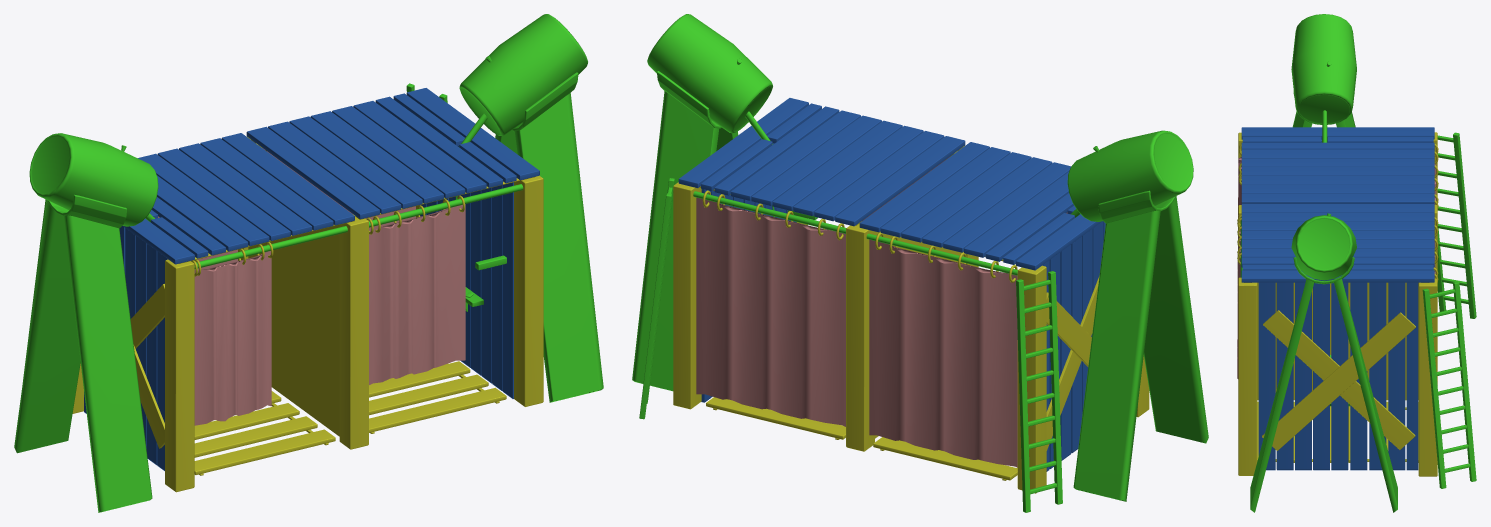
The model's file is Medieval_Shower_FBX.fbx.
3 views of the same model, side by side, from view 1: azimuth 30°, elevation 25°; view 2: azimuth 150°, elevation 25°; view 3: azimuth 270°, elevation 25° (orthographic). The views are drawn at different scales.
Parts seen in each view (by area): view 1: shower_high; view 2: shower_high; view 3: shower_high.
Part boxes in pixels (x1,y1,x2,y2): shower_high: (14, 14, 603, 512); shower_high: (632, 14, 1208, 512); shower_high: (1237, 14, 1476, 512).
Bounding box in the file's own units: 611 × 371 × 274.
